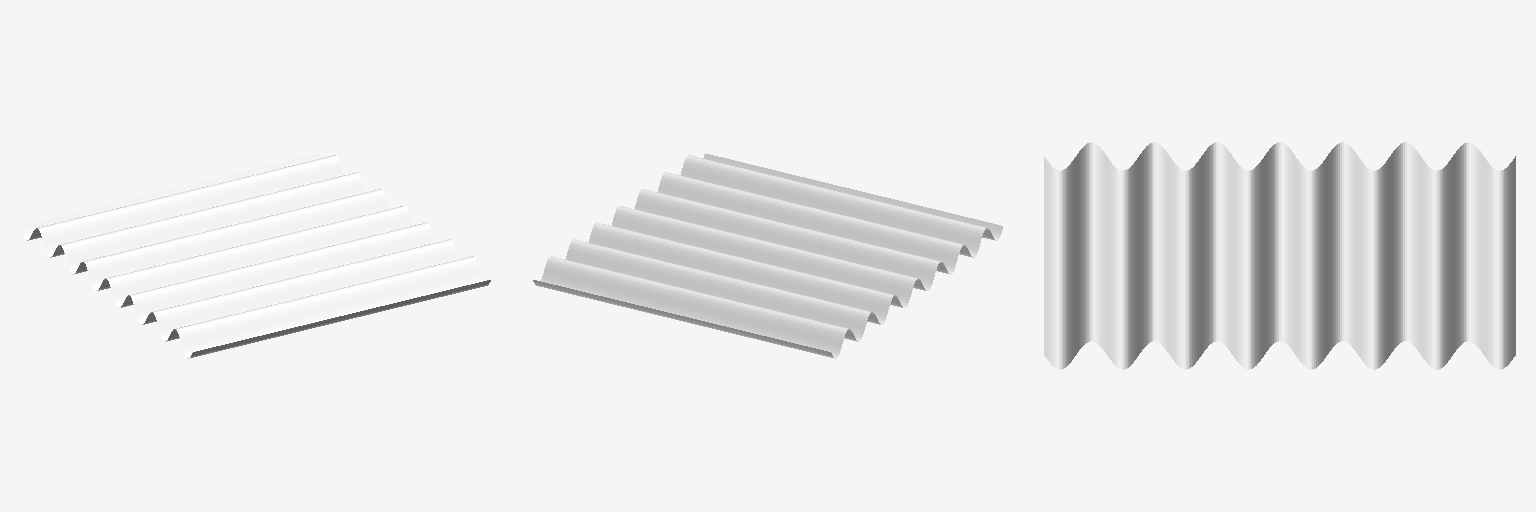
The robot description file, URDF, robot "undulating_a075_w3":
<?xml version="1.0" ?>
<robot name="undulating_a075_w3">
  <link concave="yes" name="undulatingLink">
  <contact>
      <lateral_friction value="2"/>
  </contact>
    <inertial>
      <origin rpy="0 0 0" xyz="0 0 0"/>
       <mass value=".0"/>
       <inertia ixx="0" ixy="0" ixz="0" iyy="0" iyz="0" izz="0"/>
    </inertial>
    <visual>
      <origin rpy="0 0 0" xyz="0 0 0"/>
      <geometry>
		    <mesh filename="package://snakelib_terrain/meshes/undulating_a05_w2.obj" scale="1 1 1"/>
      </geometry>
       <material name="white">
        <color rgba="1 1 1 1"/>
      </material>
    </visual>
    <collision concave="yes">
      <origin rpy="0 0 0" xyz="0 0 0"/>
      <geometry>
	 	    <mesh filename="package://snakelib_terrain/meshes/undulating_a05_w2.obj" scale="1 1 1"/>
      </geometry>
    </collision>
  </link>
</robot>
<!--- Undulating terrain with amplitude 0.5 meters and wavelength of 2 meters -->

--- Facts derived from the render (not from the file) ---
The picture shows the robot from 3 angles, left to right: view 1: azimuth 30°, elevation 25°; view 2: azimuth 150°, elevation 25°; view 3: azimuth 270°, elevation 25°; orthographic projection.
Robot: undulating_a075_w3 — 1 links, 0 joints (none); root link undulatingLink; default pose: every joint at zero.
Links seen in each view (by area): view 1: undulatingLink; view 2: undulatingLink; view 3: undulatingLink.
Boxes of the visible links, <box> form: undulatingLink: <box>21,153,490,358</box>; undulatingLink: <box>533,153,1002,358</box>; undulatingLink: <box>1044,142,1515,369</box>.
Size in the robot's own frame: 15 by 15 by 0.9957 metres.
Meshes: 1 distinct files referenced, 1 mesh visuals loaded (1 OBJ).